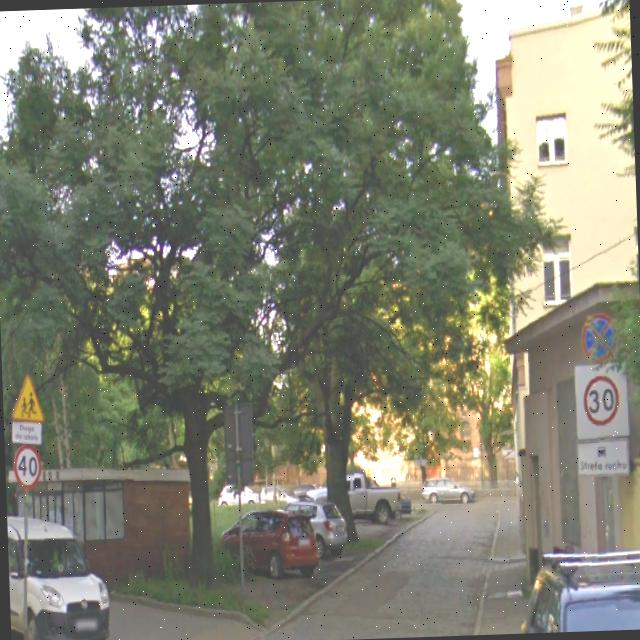Dzieci: (7, 369, 44, 426)
Zakaz zatrzymywania sie: (579, 309, 616, 362)
